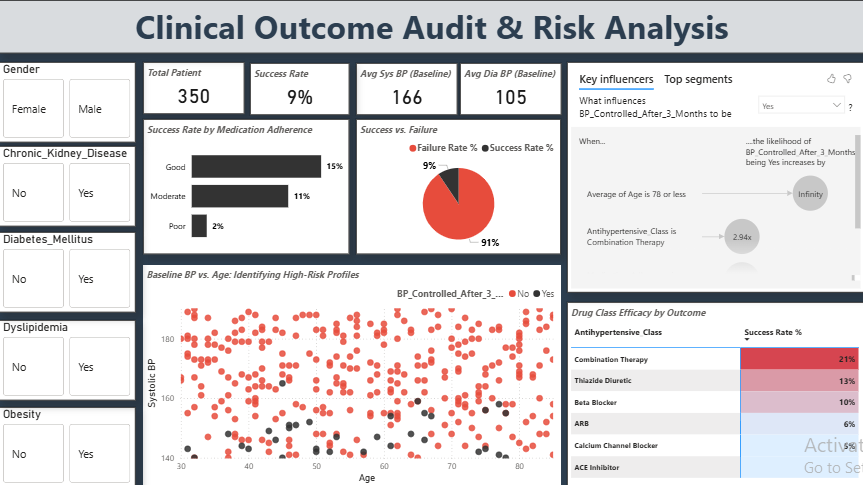

What the dashboard file says about the page in this screenshot:
{"tool":"powerbi","page":{"name":"Dashboard","canvas":[1280,720],"ordinal":0},"visuals":[{"type":"card","fields":{"Values":["_Measures.Total_Patients"]},"box":[213.3,91.7,150,76.7],"z":0},{"type":"textbox","box":[0,0,1280.2,79.2],"z":1000},{"type":"card","fields":{"Values":["_Measures.AVG Baseline BP"]},"box":[528.3,93.3,150,76.7],"z":2000},{"type":"card","fields":{"Values":["_Measures.Success Rate %"]},"box":[371.7,93.3,146.7,76.7],"z":3000},{"type":"card","fields":{"Values":["_Measures.AVG Diastolic BP"]},"box":[681.7,93.3,150,76.7],"z":4000},{"type":"clusteredBarChart","fields":{"Category":["Hypertension_Cardiology_Center_Dataset.Medication_Adherence"],"Y":["_Measures.Success Rate %"]},"box":[213.3,176.7,305,200],"z":5000},{"type":"pieChart","fields":{"Y":["_Measures.Failure Rate %","_Measures.Success Rate %"]},"box":[528.3,176.7,303.3,200],"z":6000},{"type":"pivotTable","fields":{"Rows":["Hypertension_Cardiology_Center_Dataset.Antihypertensive_Class"],"Values":["_Measures.Success Rate %"]},"box":[840.3,447,440.5,273],"z":7000},{"type":"scatterChart","fields":{"X":["Hypertension_Cardiology_Center_Dataset.Age"],"Y":["Hypertension_Cardiology_Center_Dataset.Baseline_Systolic_BP"],"Series":["Hypertension_Cardiology_Center_Dataset.BP_Controlled_After_3_Months"]},"box":[213.3,391.7,618.3,328.3],"z":8000},{"type":"keyDriversVisual","fields":{"Target":["Hypertension_Cardiology_Center_Dataset.BP_Controlled_After_3_Months"],"ExplainBy":["Hypertension_Cardiology_Center_Dataset.Medication_Adherence","Hypertension_Cardiology_Center_Dataset.Antihypertensive_Class","Avg(Hypertension_Cardiology_Center_Dataset.Age)"]},"box":[840.3,91,440.5,341.3],"z":9000},{"type":"advancedSlicerVisual","fields":{"Values":["Hypertension_Cardiology_Center_Dataset.Gender"]},"box":[0,91,201.5,118.6],"z":10000},{"type":"advancedSlicerVisual","fields":{"Values":["Hypertension_Cardiology_Center_Dataset.Chronic_Kidney_Disease"]},"box":[0,216.2,201.5,118.6],"z":11000},{"type":"advancedSlicerVisual","fields":{"Values":["Hypertension_Cardiology_Center_Dataset.Obesity"]},"box":[0,601.4,201.5,118.6],"z":12000},{"type":"advancedSlicerVisual","fields":{"Values":["Hypertension_Cardiology_Center_Dataset.Dyslipidemia"]},"box":[0,473,201.5,118.6],"z":13000},{"type":"advancedSlicerVisual","fields":{"Values":["Hypertension_Cardiology_Center_Dataset.Diabetes_Mellitus"]},"box":[0,342.9,201.5,118.6],"z":13001}]}

Visuals, with their boxes in screenshot pixels (x1, y1, x2, y2), scaled from the page's 1280x720 canvas onto the 863x485 screenshot:
card - _Measures.Total_Patients: <box>144,62,245,113</box>
textbox: <box>0,0,862,53</box>
card - _Measures.AVG Baseline BP: <box>356,63,457,115</box>
card - _Measures.Success Rate %: <box>251,63,350,115</box>
card - _Measures.AVG Diastolic BP: <box>460,63,561,115</box>
clusteredBarChart - Hypertension_Cardiology_Center_Dataset.Medication_Adherence x _Measures.Success Rate %: <box>144,119,349,254</box>
pieChart - _Measures.Failure Rate % x _Measures.Success Rate %: <box>356,119,561,254</box>
pivotTable - Hypertension_Cardiology_Center_Dataset.Antihypertensive_Class x _Measures.Success Rate %: <box>567,301,862,484</box>
scatterChart - Hypertension_Cardiology_Center_Dataset.Age x Hypertension_Cardiology_Center_Dataset.Baseline_Systolic_BP: <box>144,264,561,484</box>
keyDriversVisual - Hypertension_Cardiology_Center_Dataset.BP_Controlled_After_3_Months x Hypertension_Cardiology_Center_Dataset.Medication_Adherence: <box>567,61,862,291</box>
advancedSlicerVisual - Hypertension_Cardiology_Center_Dataset.Gender: <box>0,61,136,141</box>
advancedSlicerVisual - Hypertension_Cardiology_Center_Dataset.Chronic_Kidney_Disease: <box>0,146,136,226</box>
advancedSlicerVisual - Hypertension_Cardiology_Center_Dataset.Obesity: <box>0,405,136,484</box>
advancedSlicerVisual - Hypertension_Cardiology_Center_Dataset.Dyslipidemia: <box>0,319,136,399</box>
advancedSlicerVisual - Hypertension_Cardiology_Center_Dataset.Diabetes_Mellitus: <box>0,231,136,311</box>
